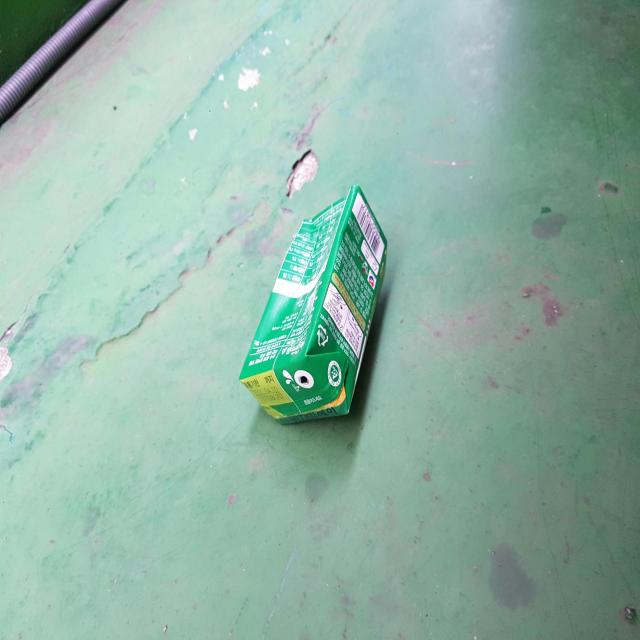paperpack: (240, 186, 388, 424)
